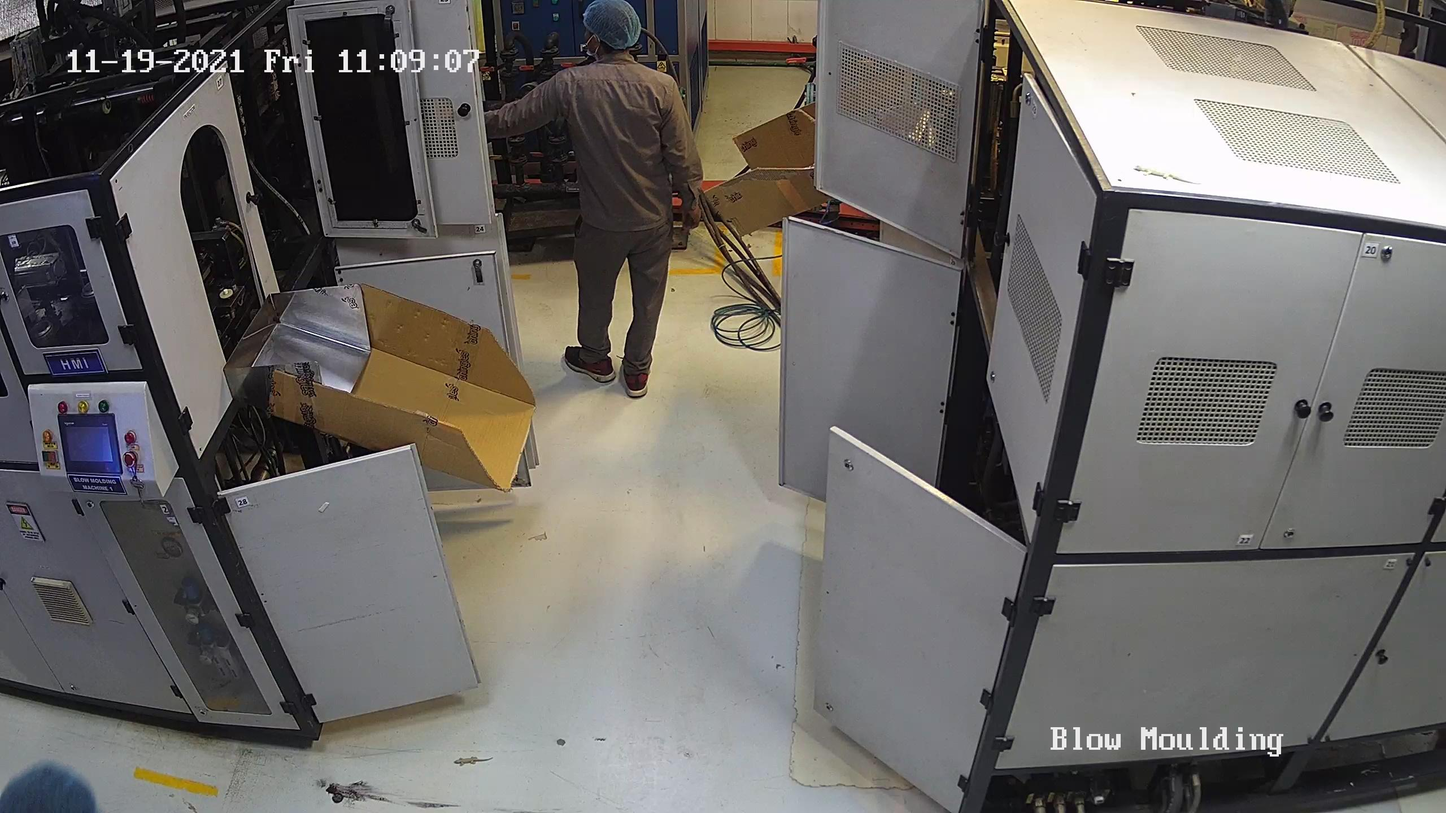lizard: (447, 744, 492, 772)
